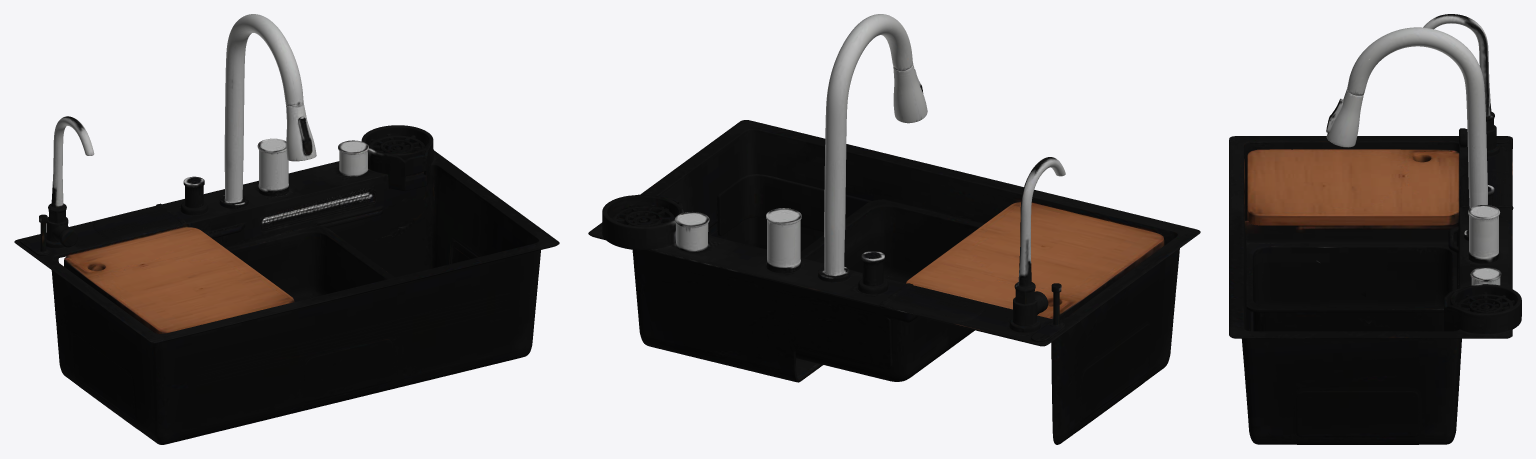
3 views of the same model, side by side, from view 1: azimuth 30°, elevation 25°; view 2: azimuth 150°, elevation 25°; view 3: azimuth 270°, elevation 25° (orthographic). The views are drawn at different scales.
Visible parts, largest first — view 1: material; view 2: material; view 3: material.
Boxes of the visible parts, <box> form: material: <box>14,14,559,444</box>; material: <box>588,14,1200,444</box>; material: <box>1229,14,1521,444</box>.
Size of the model in its own units: 0.9513 by 0.7389 by 0.5838.
Materials: 1 (1 with a texture image).
